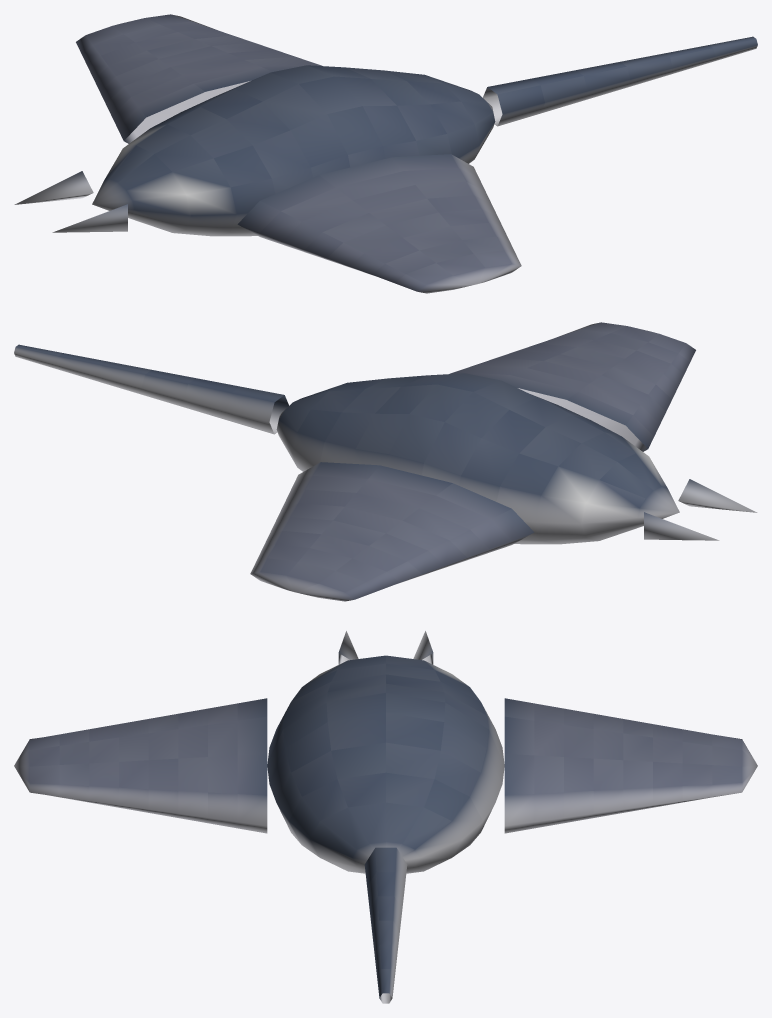
Rendered from Manta_Ray.glb.
3 renders of one model, top to bottom at view 1: azimuth 30°, elevation 25°; view 2: azimuth 150°, elevation 25°; view 3: azimuth 270°, elevation 25°, orthographic. The views are drawn at different scales.
Visible parts, largest first — view 1: MantaRay; view 2: MantaRay; view 3: MantaRay.
Part boxes in pixels (x1=…): MantaRay: x1=14, y1=14, x2=757, y2=293; MantaRay: x1=14, y1=322, x2=757, y2=601; MantaRay: x1=14, y1=631, x2=757, y2=1003.
Size of the model in its own units: 1.1 by 0.2039 by 0.94.
